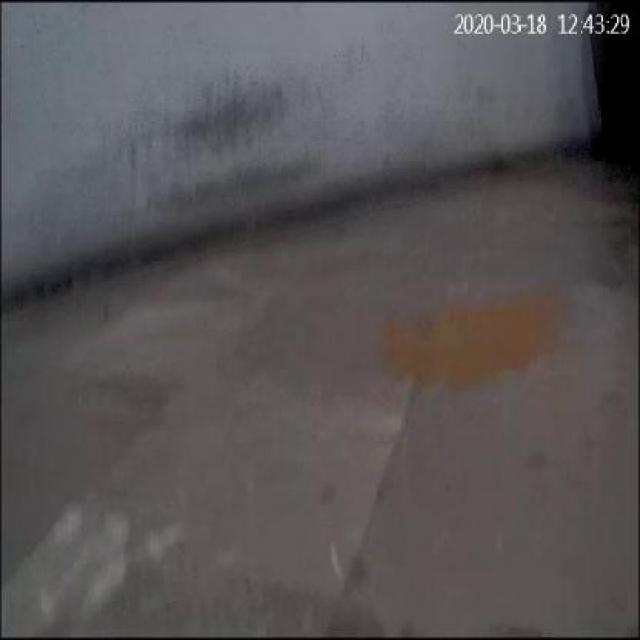spill: (378, 294, 567, 388)
